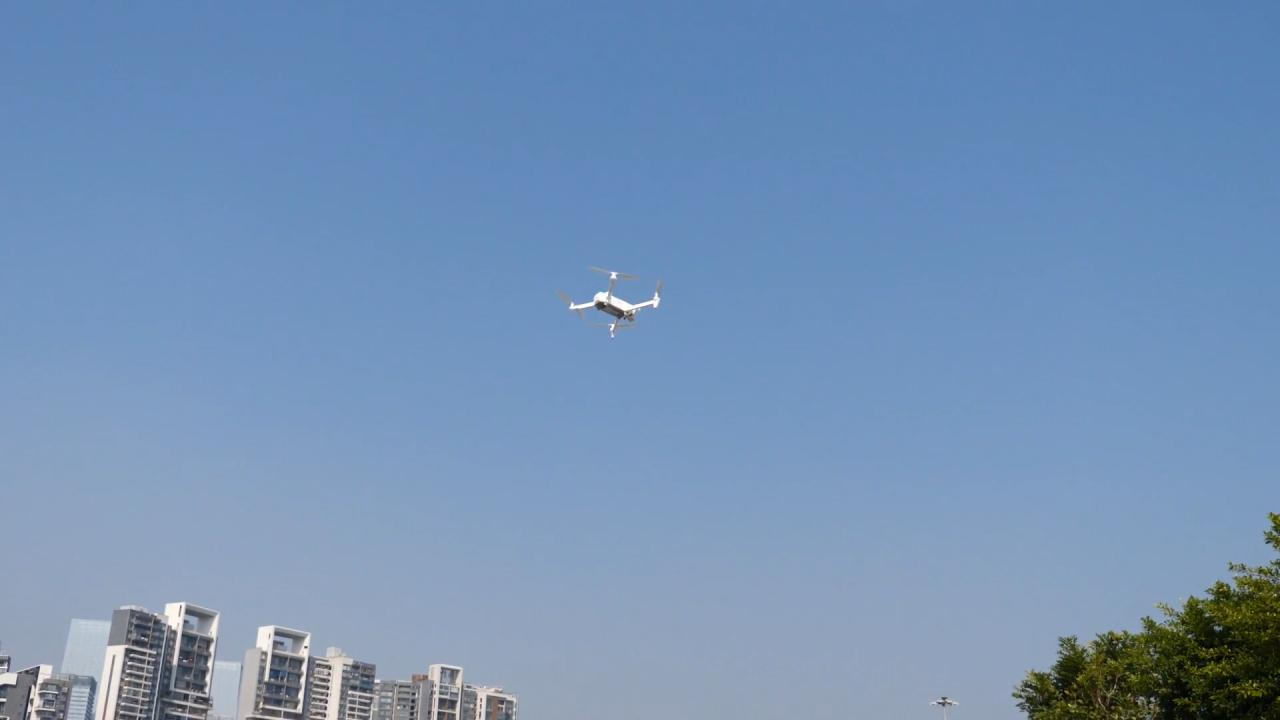Drone: (550, 252, 673, 350)
